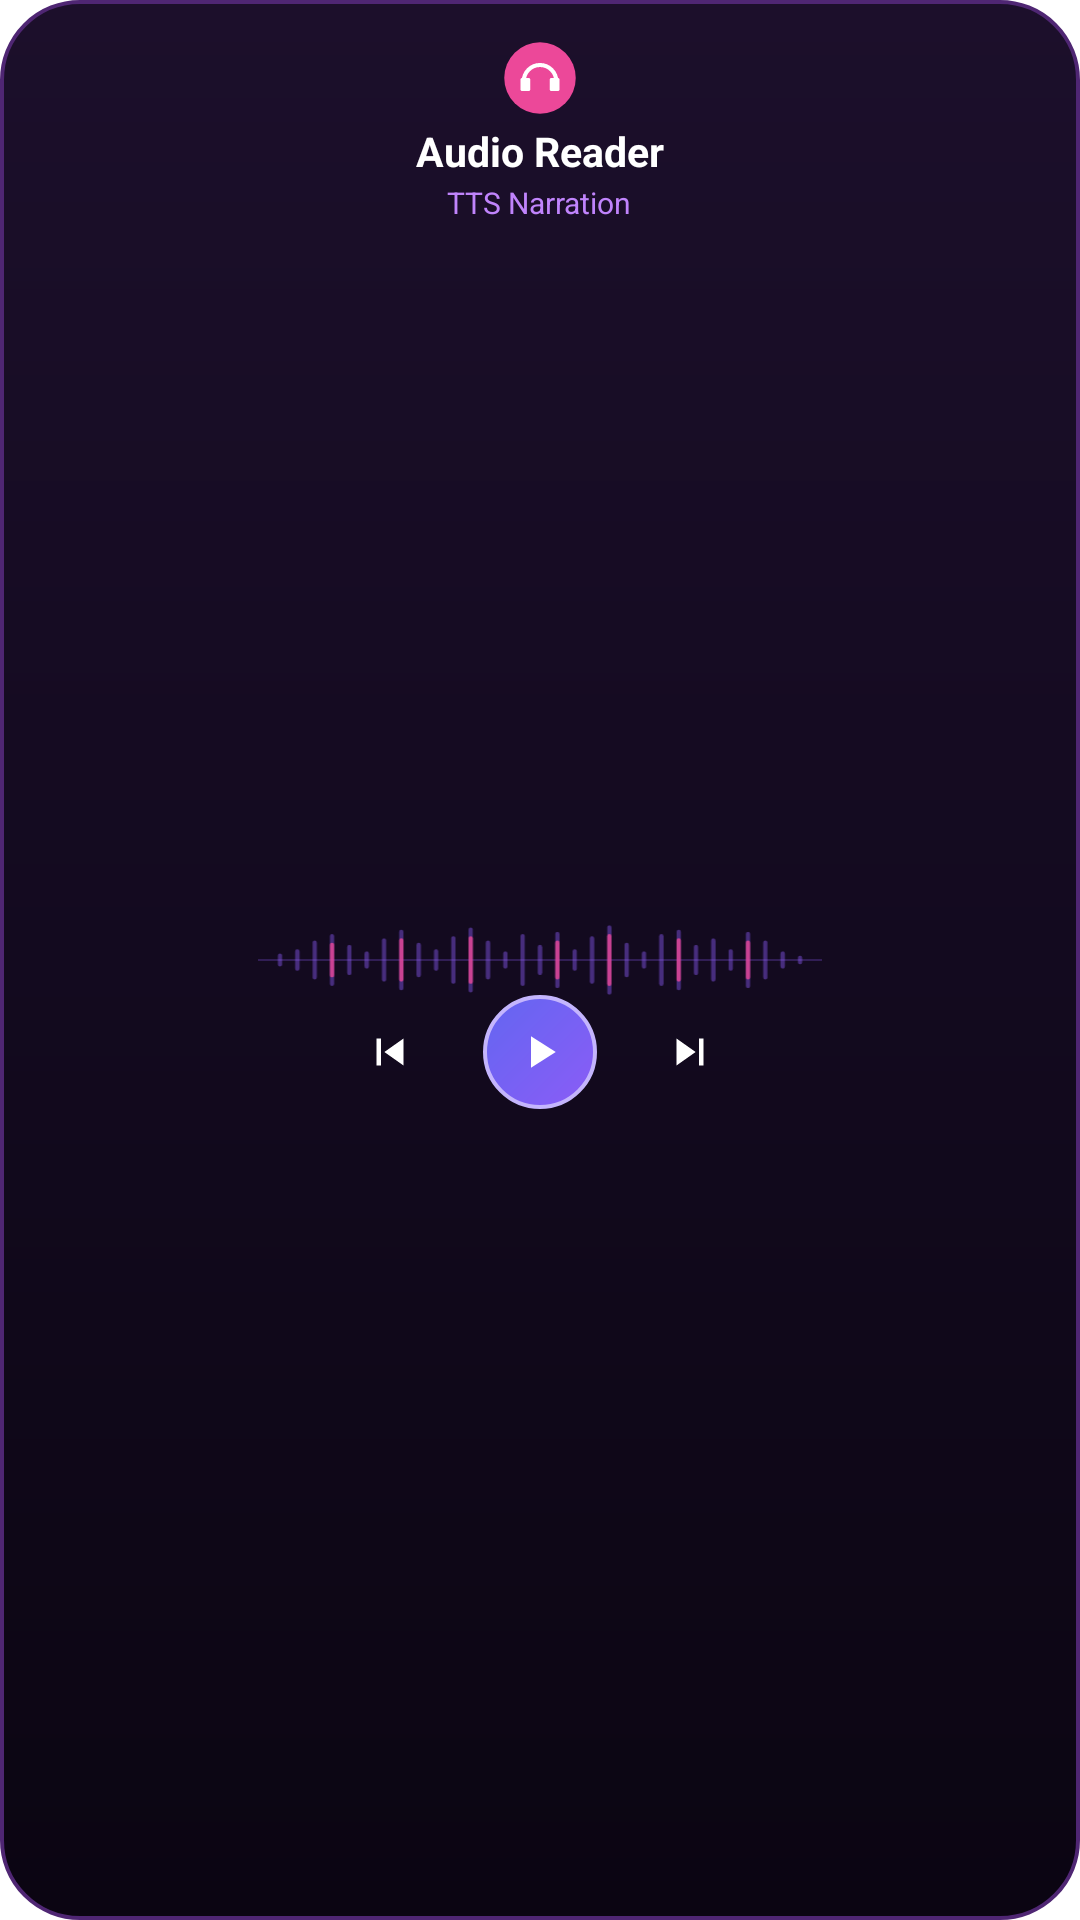

Screen size 1080*1920. Icon name, then its center in pixels as [x,y]:
Headphones: [540,78]
Next: [690,1052]
Play Narration: [540,1052]
Previous: [390,1052]
